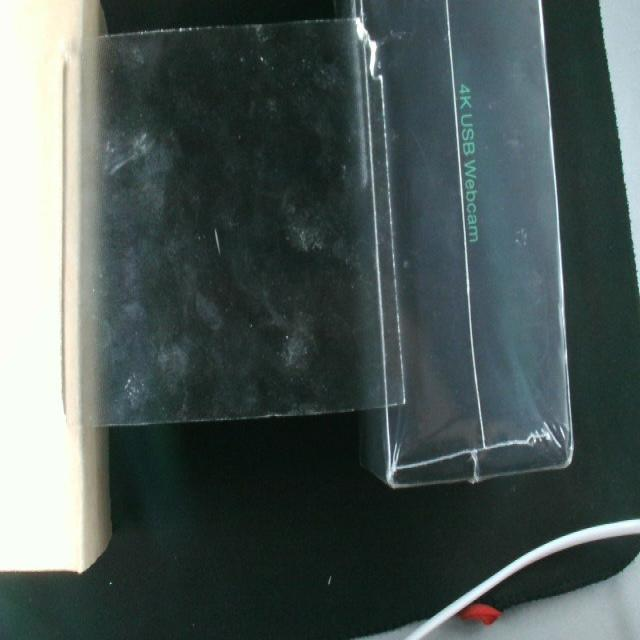edge_chip: (344, 12, 388, 90), (260, 400, 291, 427)
scratch: (207, 220, 225, 263)
